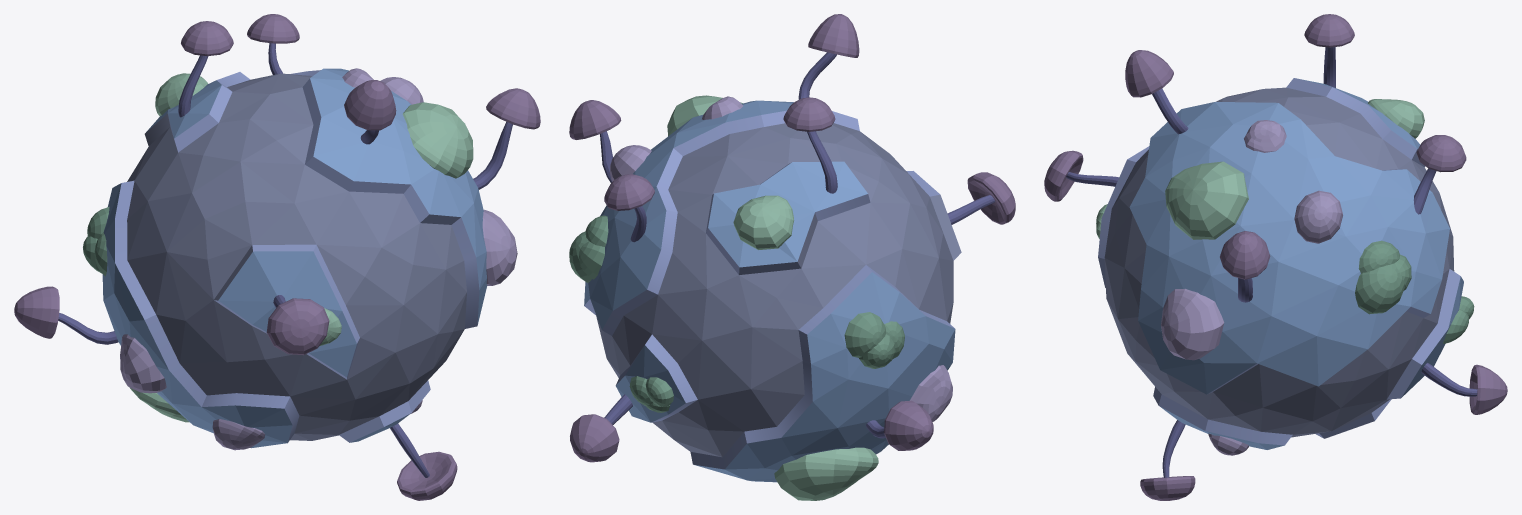
The model's file is Planete_Jazz_-_Finale.fbx.
3 renders of one model, left to right at view 1: azimuth 30°, elevation 25°; view 2: azimuth 150°, elevation 25°; view 3: azimuth 270°, elevation 25°, orthographic. The views are drawn at different scales.
Parts seen in each view (by area): view 1: group111_pasted__group106_pasted__pasted__pSphere5; view 2: group111_pasted__group106_pasted__pasted__pSphere5; view 3: group111_pasted__group106_pasted__pasted__pSphere5.
Boxes of the visible parts, x1,y1,x2,y2 form: group111_pasted__group106_pasted__pasted__pSphere5: (14, 14, 540, 500); group111_pasted__group106_pasted__pasted__pSphere5: (569, 14, 1015, 500); group111_pasted__group106_pasted__pasted__pSphere5: (1044, 14, 1507, 500).
Size of the model in its own units: 27.72 by 26.42 by 26.24.
